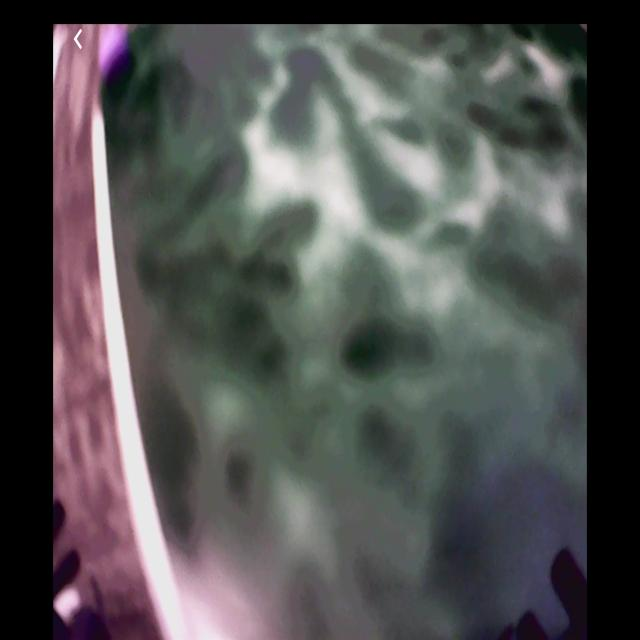ball: (98, 28, 134, 86)
